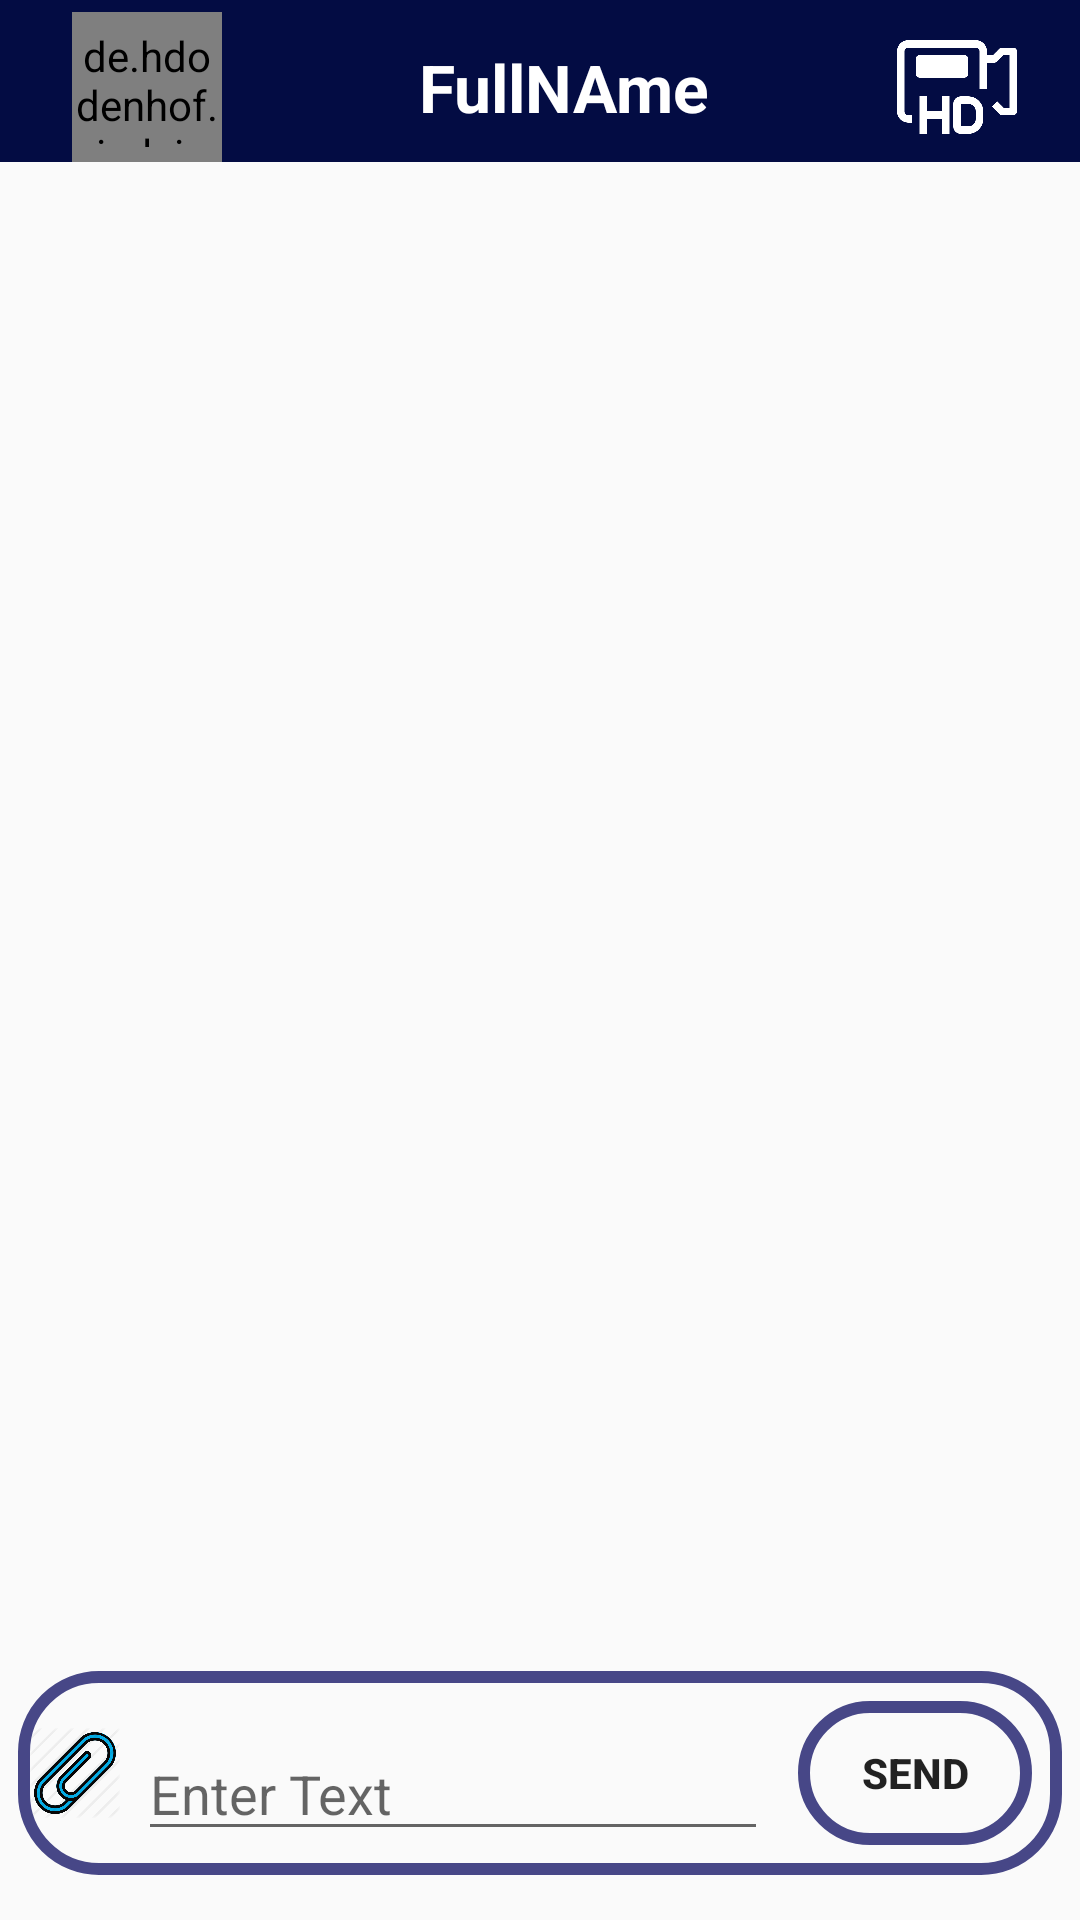

Named icons in this screenshot (1080px×1920px) and their centers, (x,y):
attachfile: (75,1773)
video call: (957,87)
